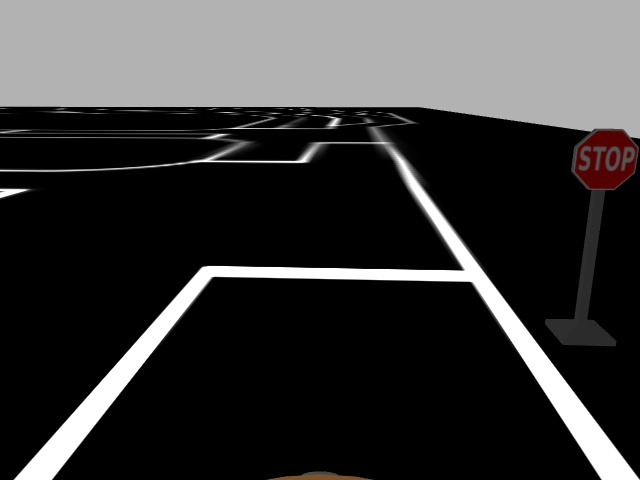stop: (569, 126, 640, 193)
